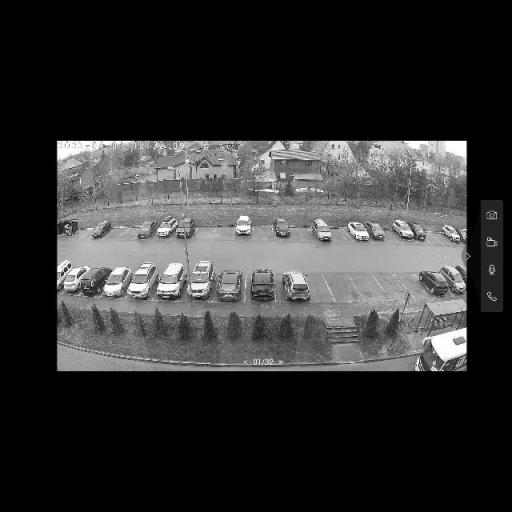busy: (426, 326, 473, 372), (153, 263, 188, 300), (97, 266, 132, 299), (246, 271, 280, 302), (67, 266, 104, 294), (214, 270, 246, 302), (283, 272, 317, 302), (418, 271, 452, 297), (59, 263, 85, 292), (345, 221, 375, 241), (230, 216, 258, 237), (310, 220, 336, 242), (392, 221, 422, 240), (154, 216, 179, 238), (448, 268, 467, 294), (85, 222, 113, 239), (362, 223, 388, 241), (171, 218, 194, 238), (269, 220, 294, 238), (136, 221, 158, 240), (438, 226, 464, 242)
free: (327, 276, 356, 298), (354, 276, 380, 298), (329, 222, 351, 245), (213, 221, 235, 243), (383, 276, 403, 298), (197, 220, 214, 244), (308, 278, 327, 298), (406, 276, 424, 295), (122, 224, 139, 242), (107, 222, 122, 242), (381, 226, 397, 242), (425, 228, 439, 246), (436, 231, 448, 244), (294, 229, 308, 240), (255, 228, 270, 238), (82, 226, 92, 240), (72, 227, 80, 240)
